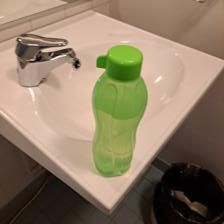bottle: (86, 42, 150, 178)
